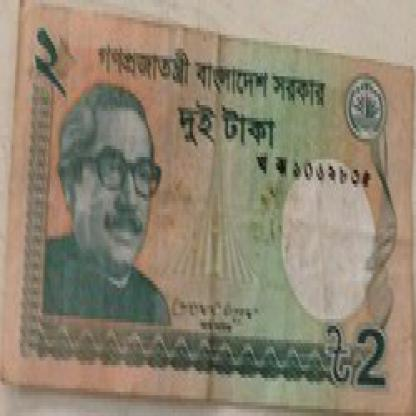two taka: (171, 94, 283, 166), (30, 24, 63, 97)
